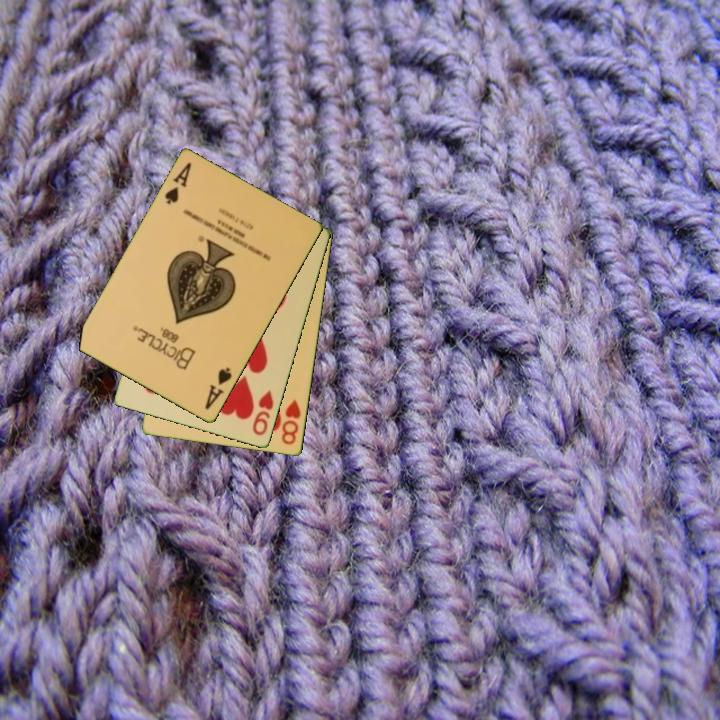8h: (278, 397, 304, 448)
9h: (249, 387, 277, 439)
As: (201, 364, 235, 413), (161, 159, 195, 208)
